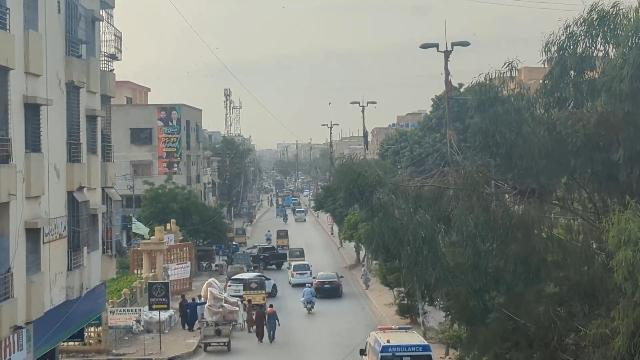Bike: (304, 297, 315, 314)
Car: (312, 270, 343, 299), (289, 261, 313, 286)
Cart: (199, 323, 235, 354)
Person: (265, 303, 281, 342), (253, 304, 266, 344), (186, 296, 200, 332), (194, 292, 206, 328), (244, 295, 254, 331), (177, 292, 187, 328), (302, 282, 314, 300)
Rickshaw: (242, 277, 267, 306)
Van: (358, 325, 435, 360)
